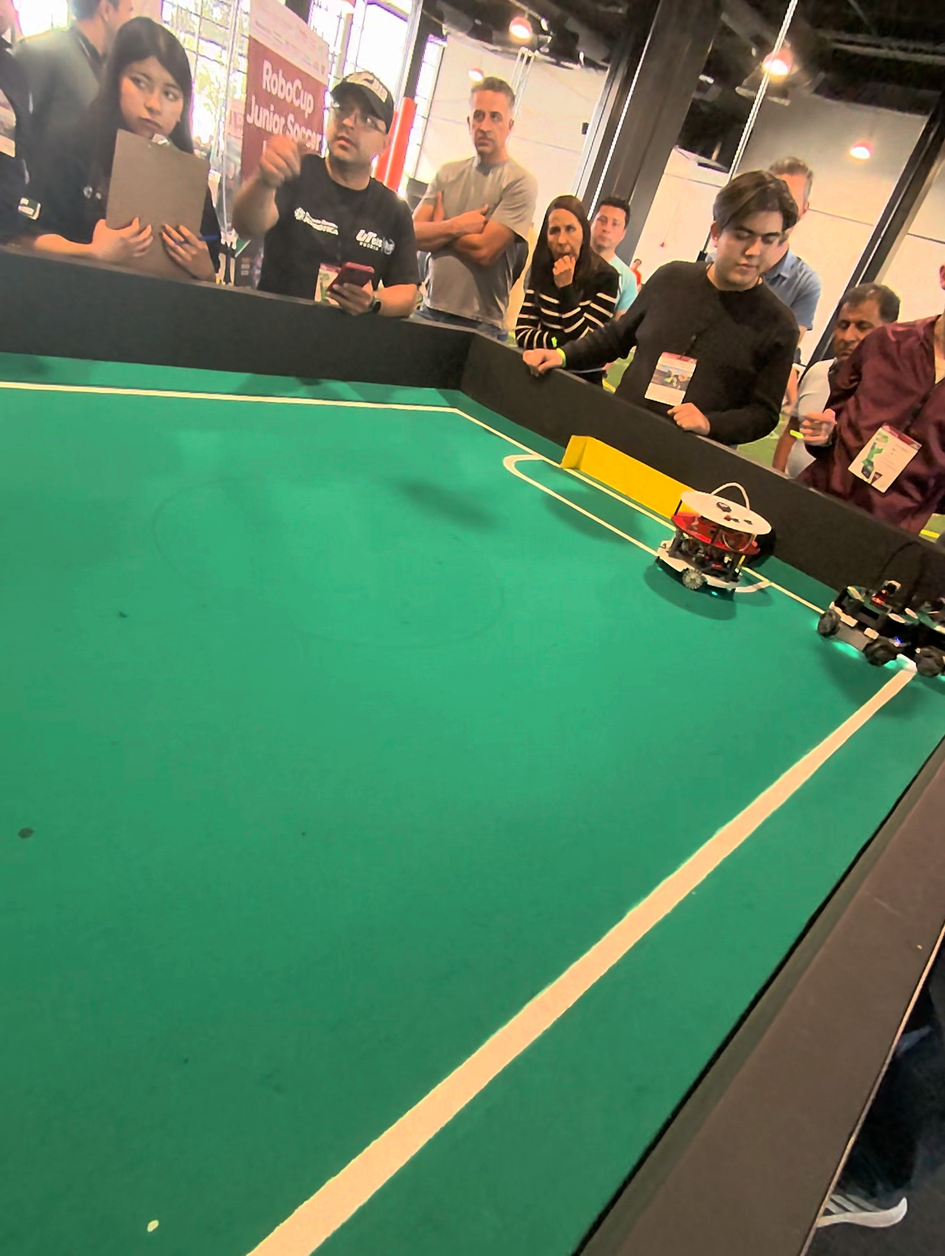Robot: (817, 536, 945, 684), (651, 481, 776, 610)
